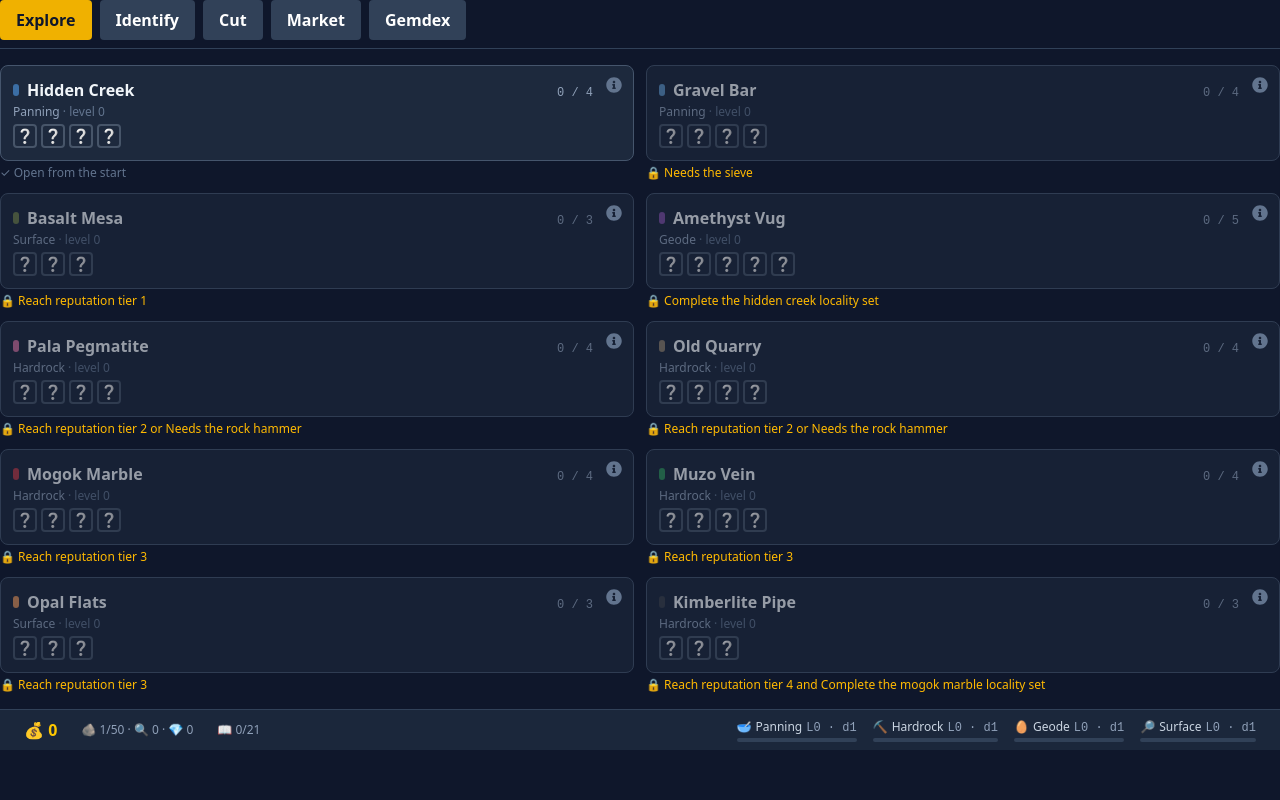
it: the bench › announces a stone that has just been identified
Click the button "Identify": (147, 20) [100,0,195,40]
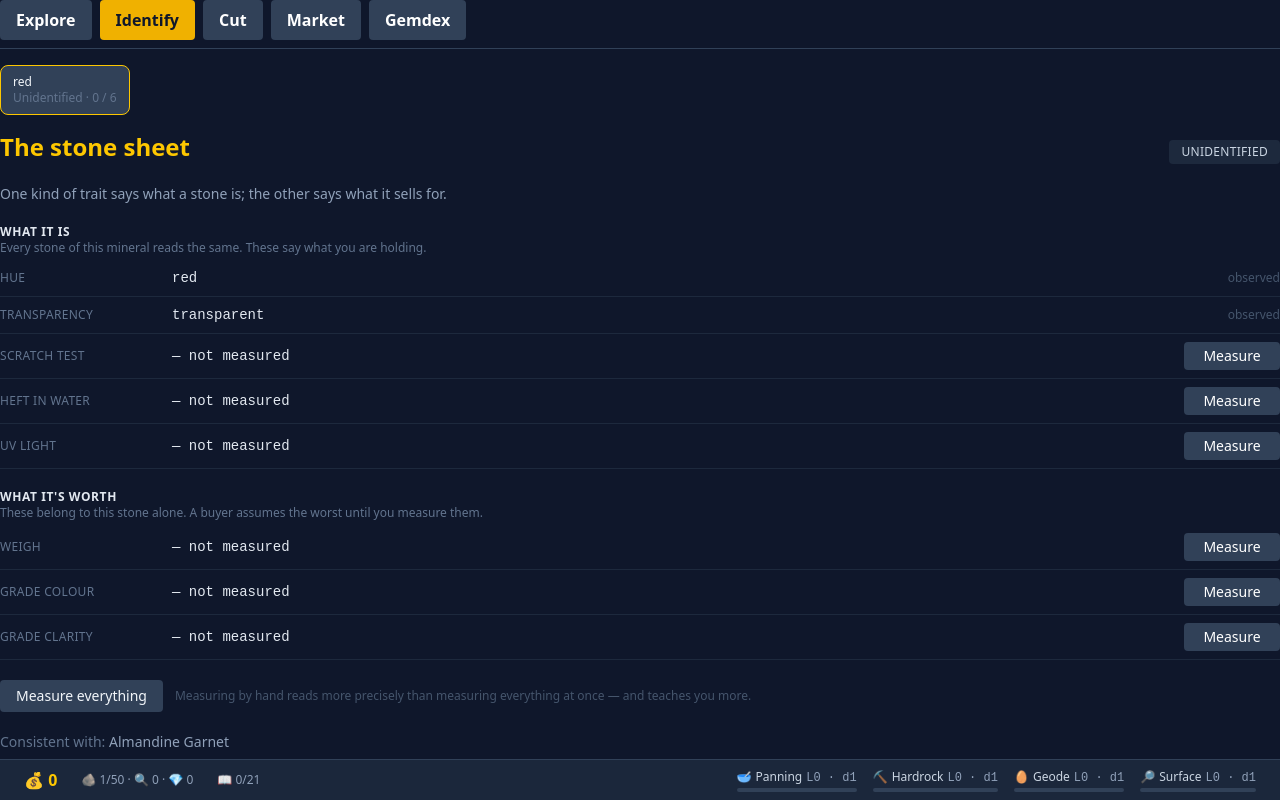
Click the button with aria-label "measure scratch test": (1232, 356) [1184,342,1279,370]
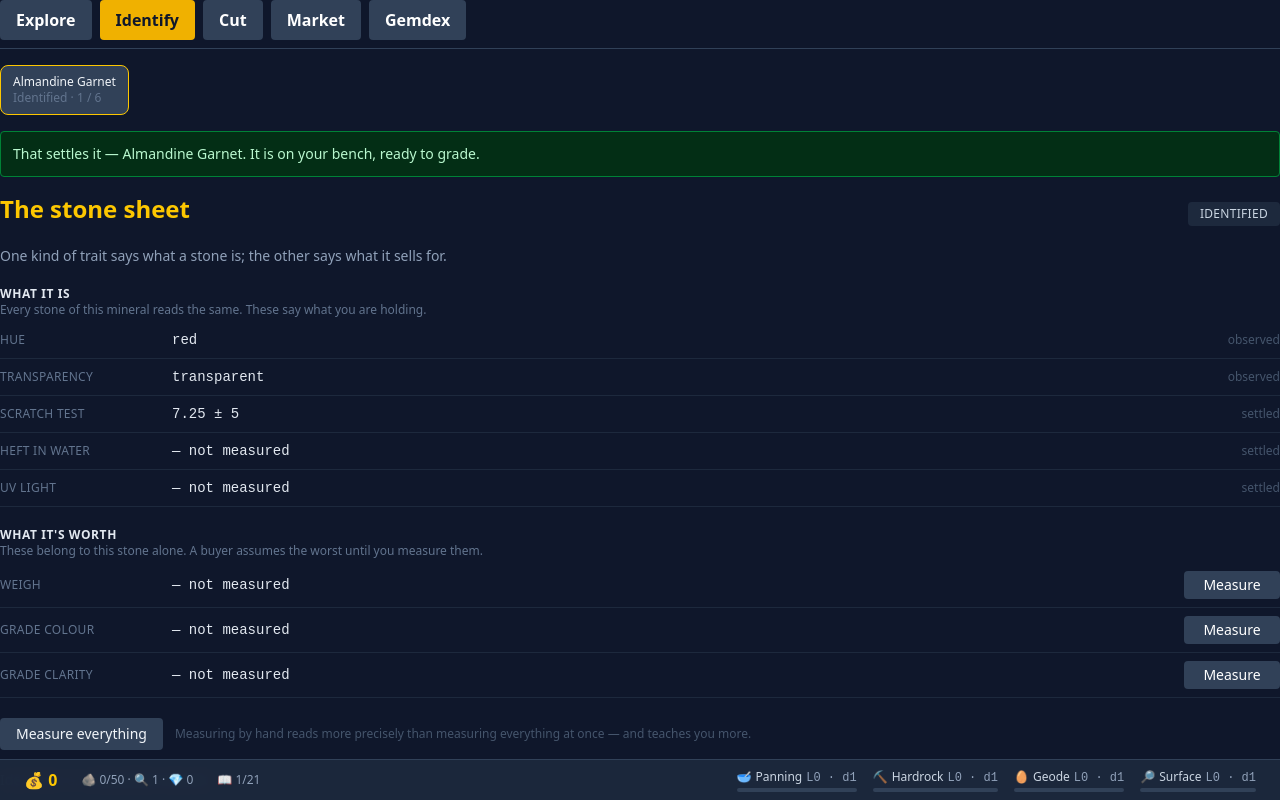
Check: the message shows "Almandine Garnet", box [122,144,242,163]
